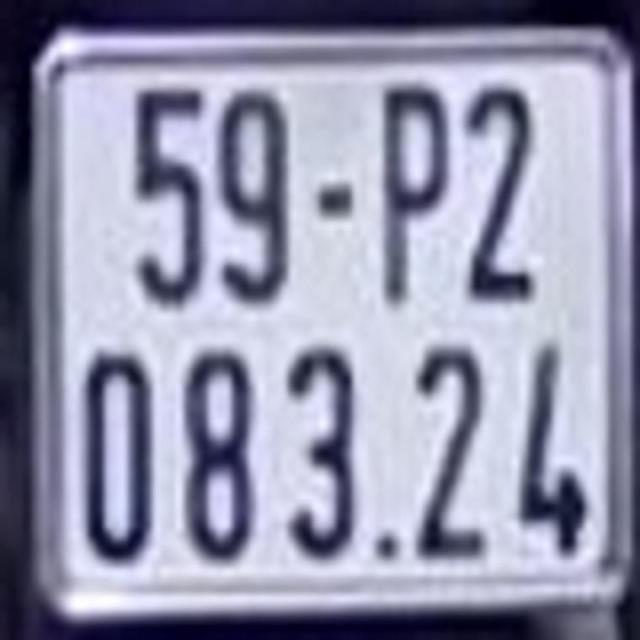0: (85, 366, 150, 560)
2: (465, 94, 535, 302), (418, 346, 480, 559)
3: (293, 360, 350, 563)
4: (517, 346, 590, 553)
5: (134, 91, 204, 304)
8: (190, 348, 253, 564)
9: (219, 90, 293, 311)
P: (378, 85, 449, 312)
